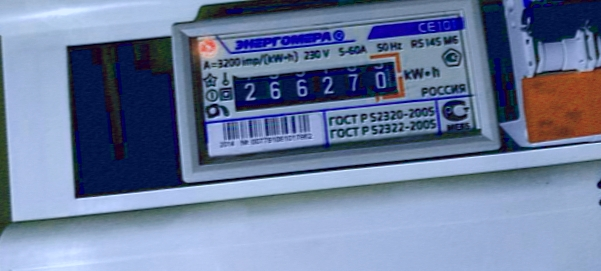0: (373, 68, 387, 90)
2: (242, 79, 258, 101), (321, 73, 335, 95)
6: (268, 79, 283, 100), (294, 76, 309, 96)
7: (346, 70, 360, 92)
screen: (221, 46, 413, 121)
